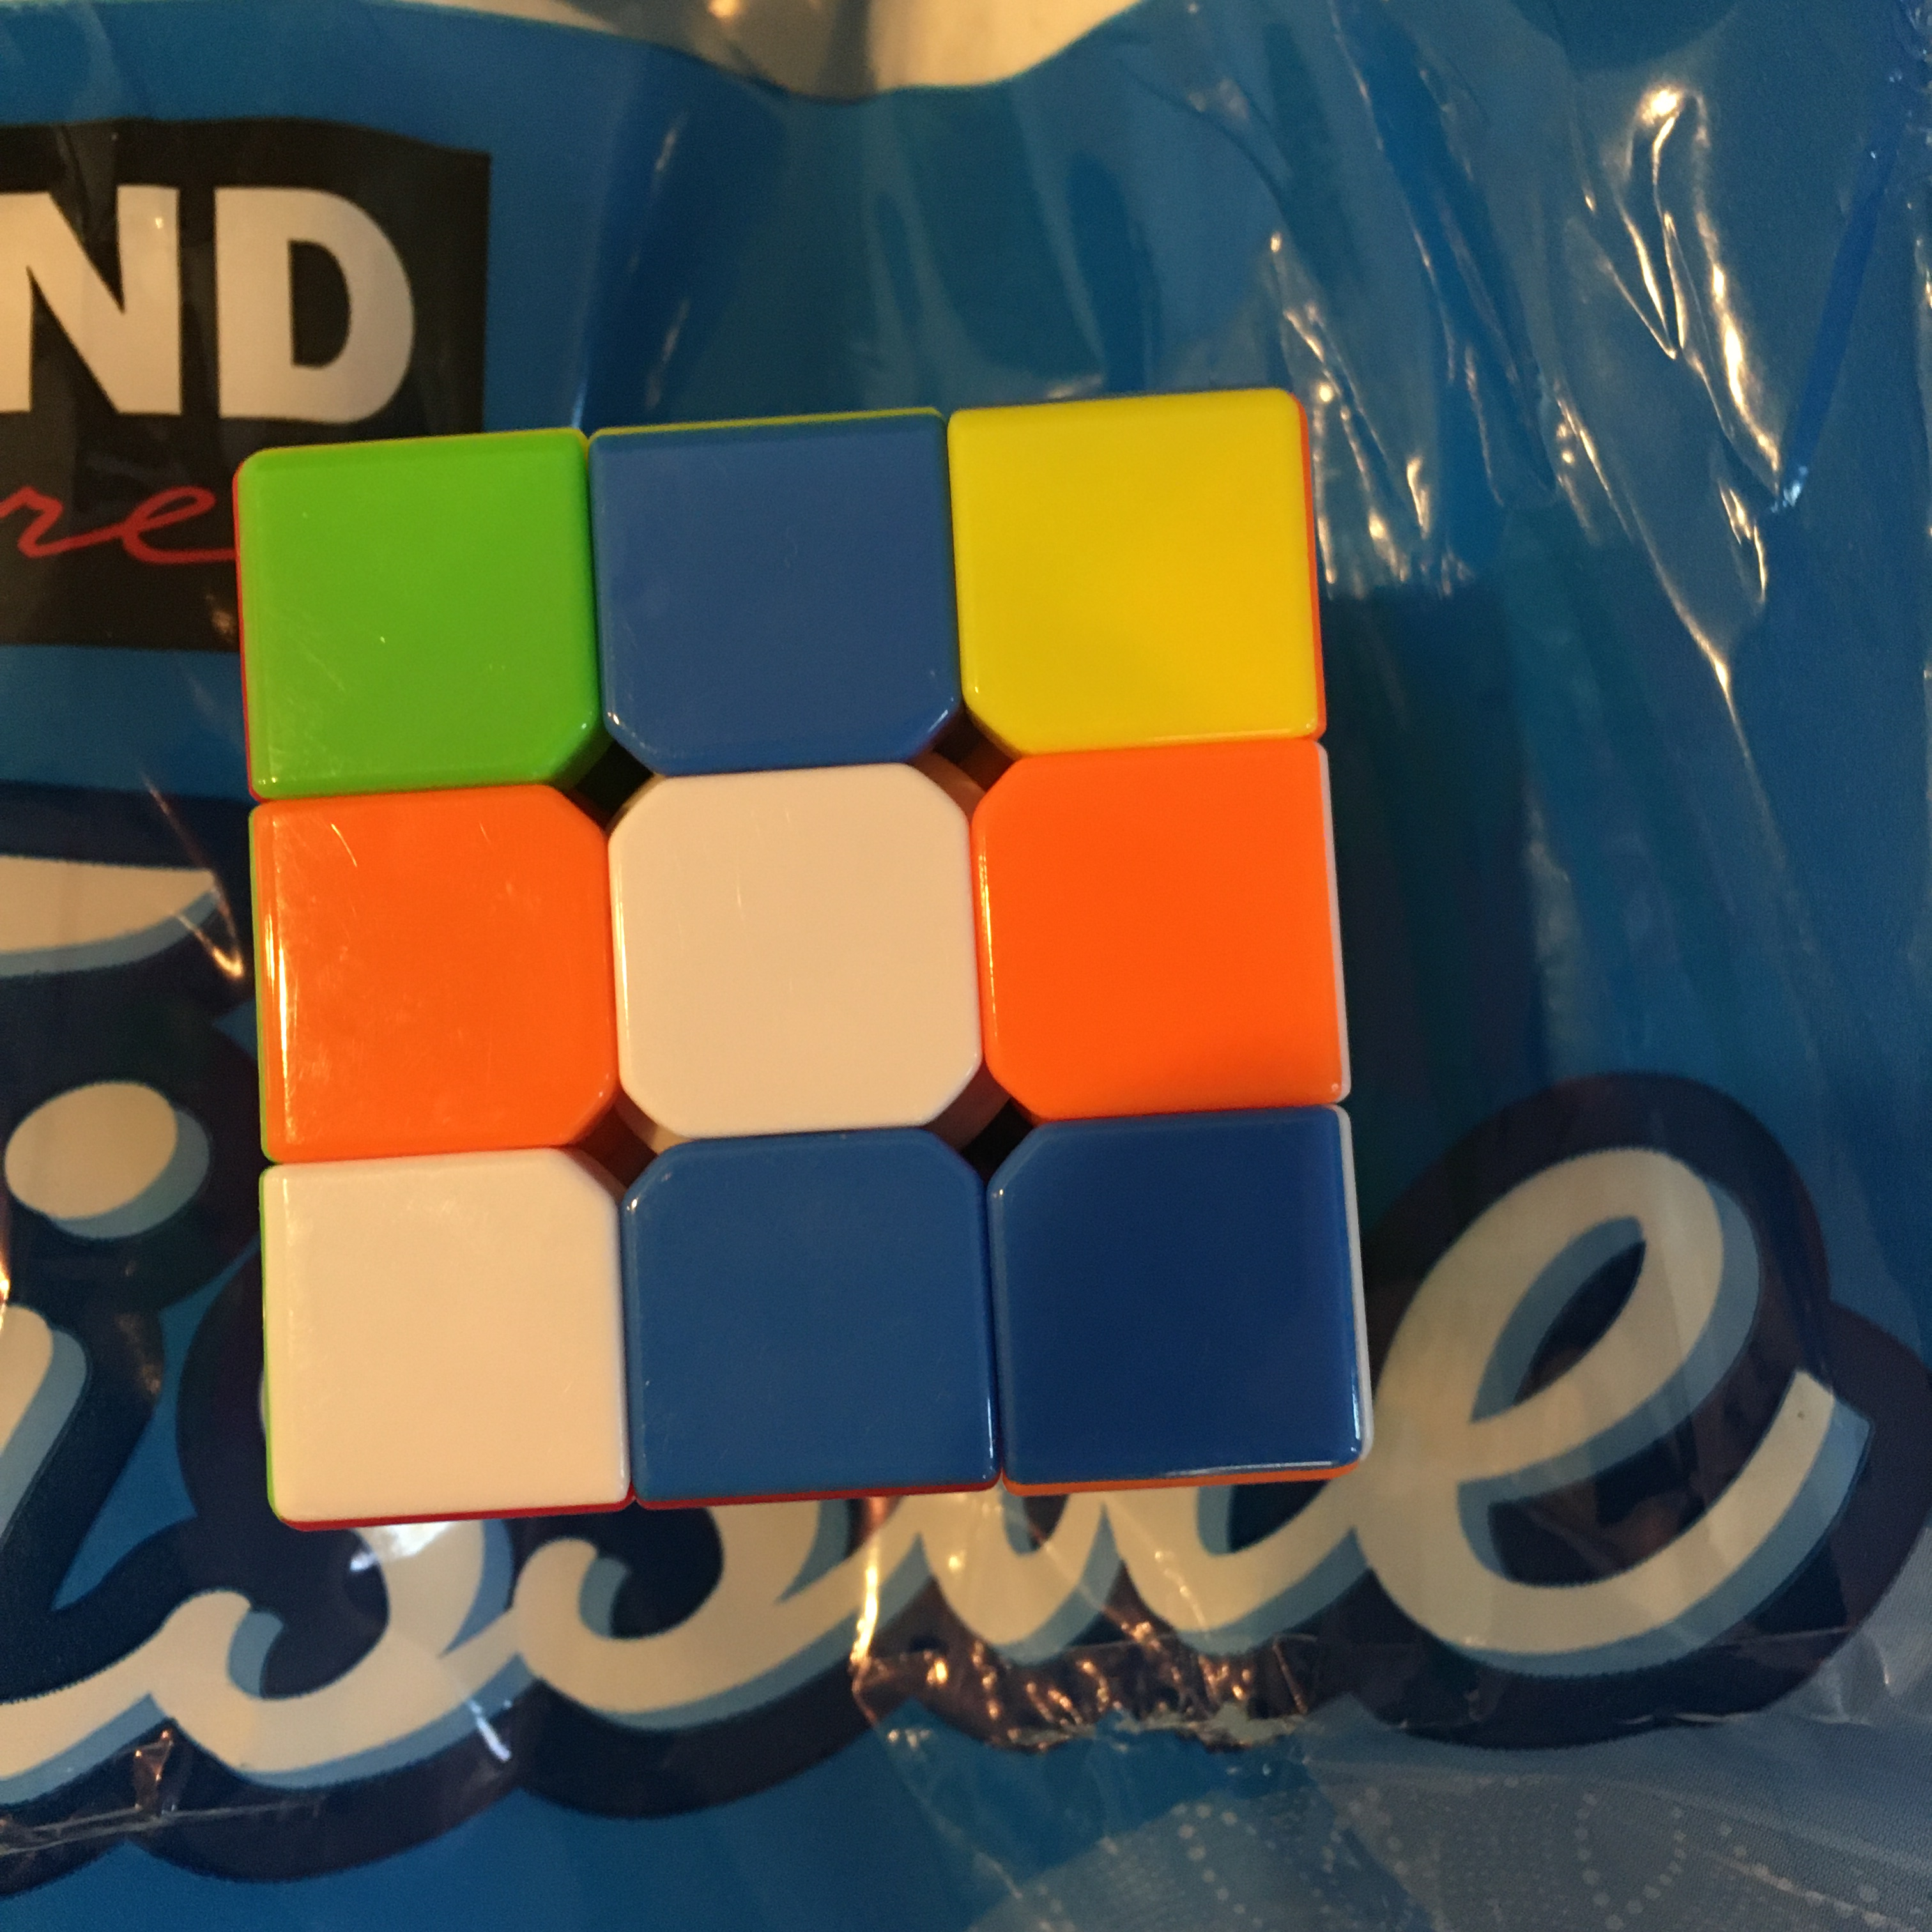face: (229, 399, 1371, 1525)
